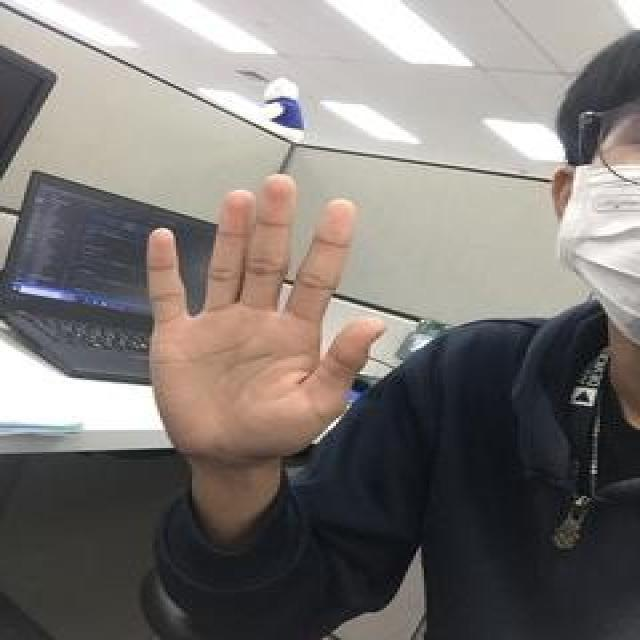hand: (144, 173, 395, 465)
